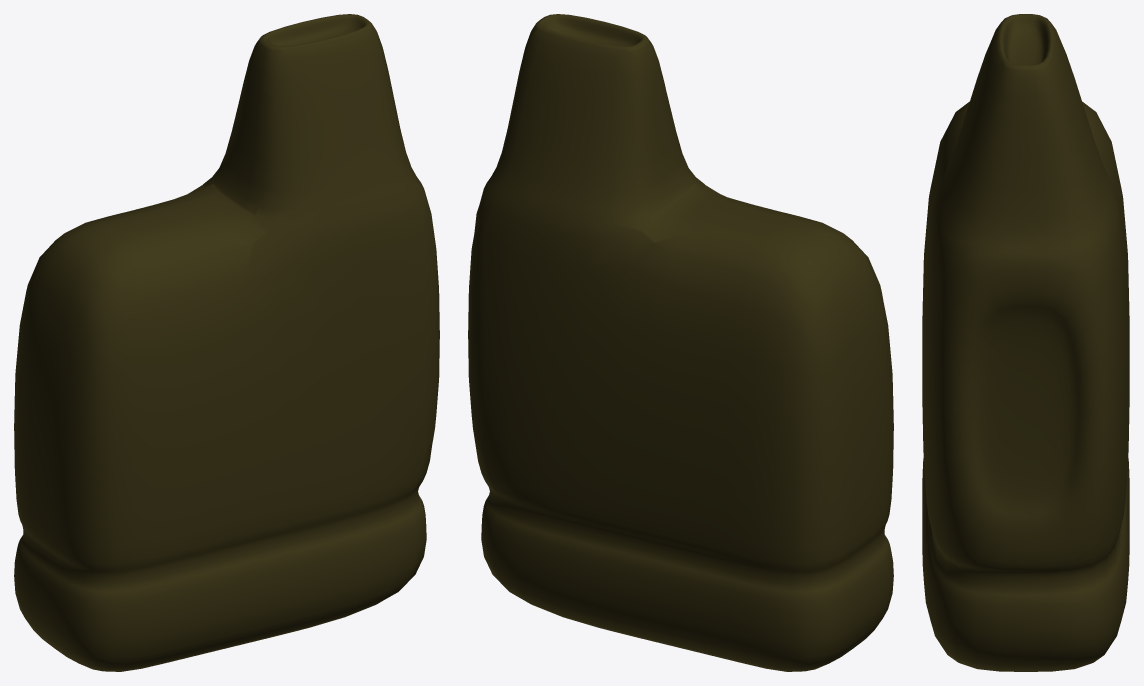
Rendered from glbVape3.glb.
The picture shows the model from 3 angles, left to right: view 1: azimuth 30°, elevation 25°; view 2: azimuth 150°, elevation 25°; view 3: azimuth 270°, elevation 25°; orthographic projection. The views are drawn at different scales.
Visible parts, largest first — view 1: Cube.005; view 2: Cube.005; view 3: Cube.005.
Boxes of the visible parts, x1,y1,x2,y2 form: Cube.005: [14, 14, 439, 671]; Cube.005: [468, 14, 893, 671]; Cube.005: [922, 14, 1129, 671].
Bounding box in the file's own units: 1.99 × 2.96 × 0.9014.
